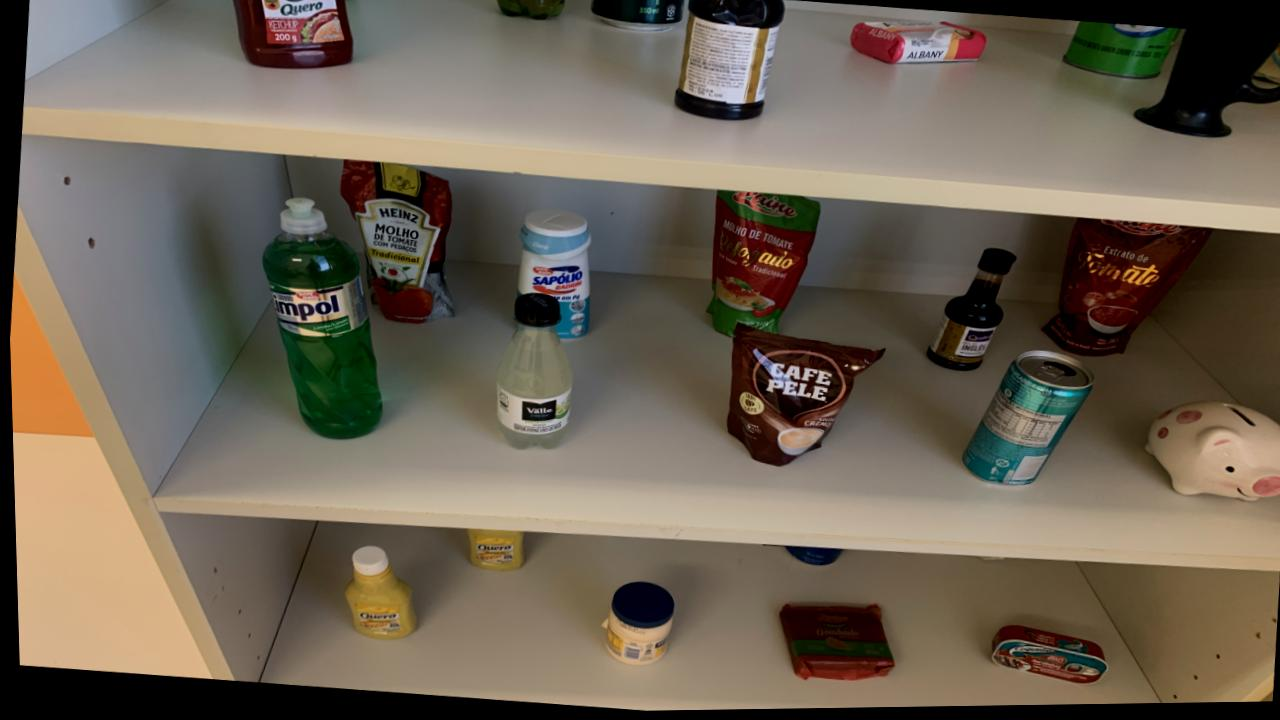Cleaner-Cleanup_Items: (514, 211, 588, 341)
Coffee-Pantry_Items: (723, 327, 882, 468)
Detergent-Cleanup_Items: (260, 198, 379, 440)
English_Sauce-Pantry_Items: (674, 0, 784, 123), (924, 251, 1013, 374)
Flakes-Snacks: (1255, 46, 1280, 88)
Guarana-Drinks: (495, 0, 563, 21)
Guarana_Can-Drinks: (590, 0, 684, 34)
Guava-Snacks: (774, 606, 889, 683)
Ketchup-Pantry_Items: (232, 0, 352, 70)
Mayonnaise-Pantry_Items: (598, 584, 670, 668)
Mustard-Pantry_Items: (342, 547, 413, 641), (463, 530, 520, 573)
Pig_Safe-Miscellaneous: (1141, 405, 1280, 505)
Pringles-Snacks: (1063, 24, 1178, 82)
Soap-Cleanup_Items: (849, 23, 984, 67)
Soda-Drinks: (493, 294, 569, 450)
Tea-Drinks: (960, 353, 1091, 489)
Tomato_Sauce-Pantry_Items: (1038, 222, 1210, 360), (338, 161, 451, 325), (704, 192, 818, 338)
Tonic-Drinks: (781, 549, 839, 569)
Tuna_Can-Pantry_Items: (987, 628, 1102, 688)
